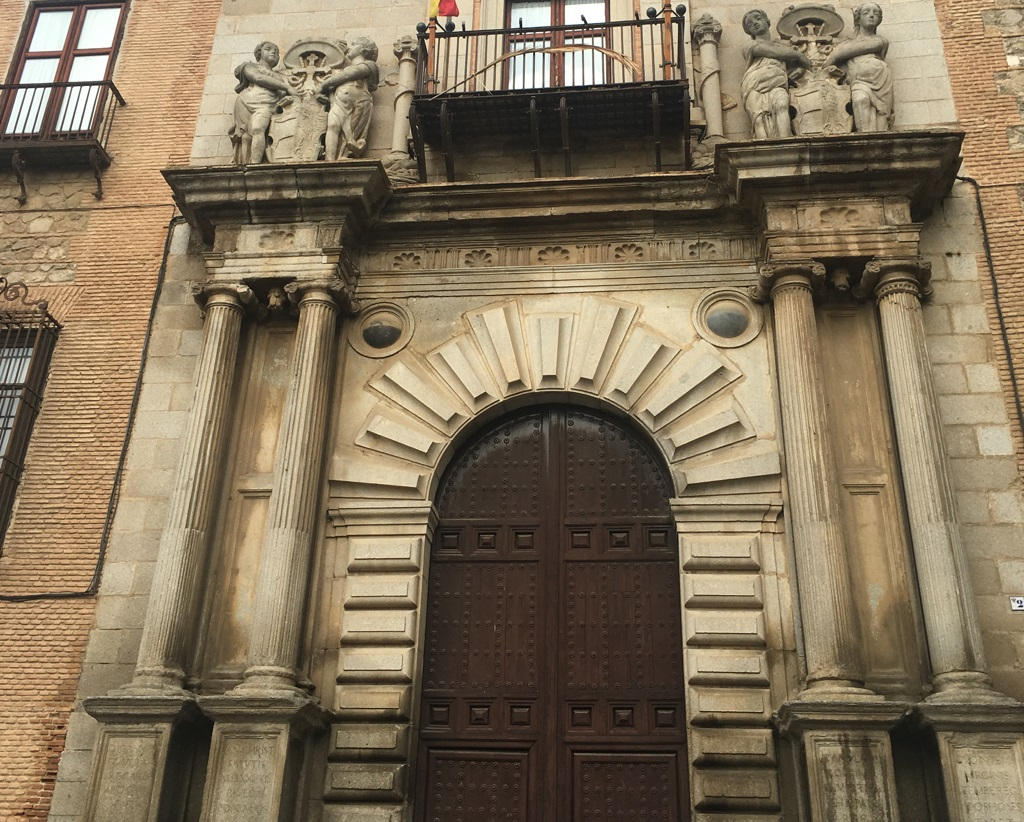arco-medio-punto: (406, 365, 696, 549)
ojo-de-buey: (689, 287, 762, 342), (356, 299, 414, 355)
